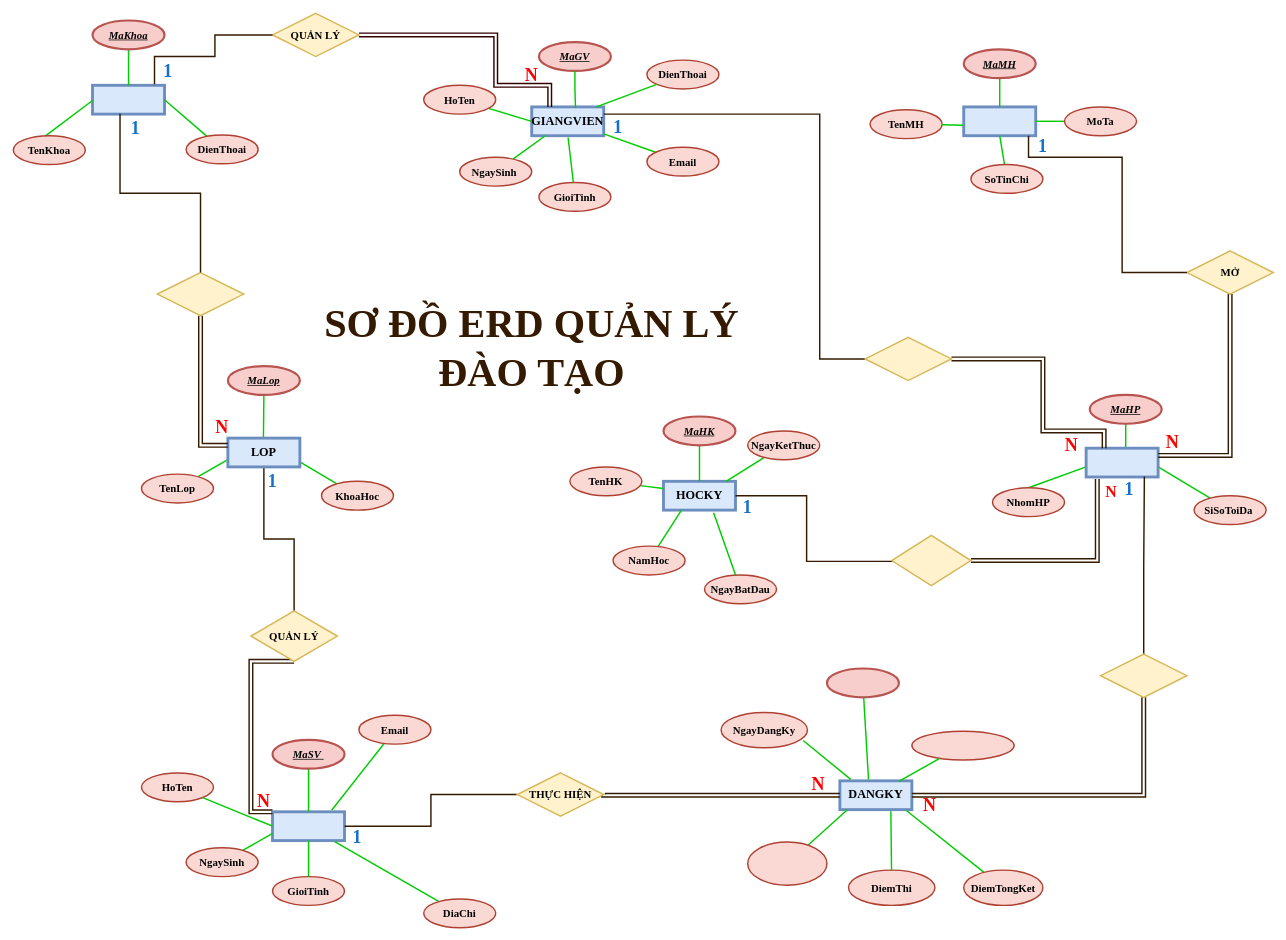
Some shapes in this 1286 by 940 pixel diagram are drawn without their labels. The box of each missing label's shape, as (x1, y1, x2, y2) in pixels:
CÓ: (1099, 653, 1187, 698)
DiemQuaTrinh: (747, 841, 827, 886)
GIẢNG DẠY: (864, 336, 952, 381)
HOCPHAN: (1084, 446, 1159, 478)
KetQua: (911, 730, 1014, 760)
KHOA: (91, 84, 166, 115)
MaDK: (825, 667, 900, 698)
MONHOC: (962, 105, 1037, 137)
SINHVIEN: (271, 810, 346, 842)
THUỘC: (156, 271, 244, 316)
TỔ CHỨC: (891, 534, 971, 586)
